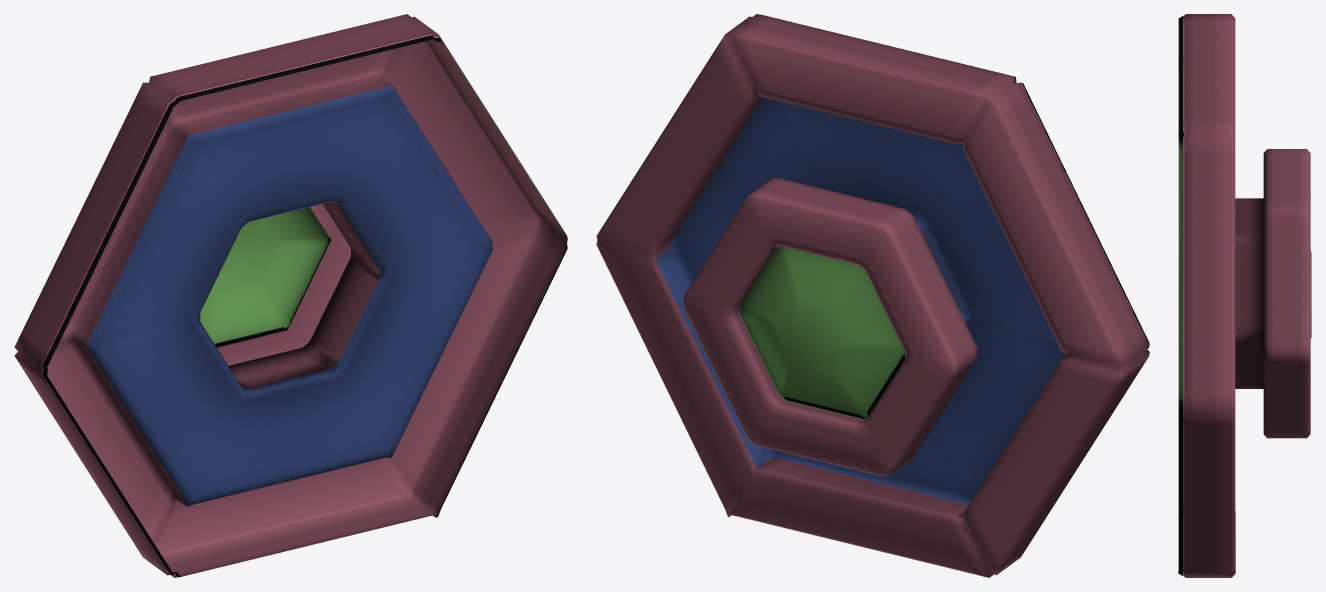
File: Fountain.fbx
3 views of the same model, side by side, from view 1: azimuth 30°, elevation 25°; view 2: azimuth 150°, elevation 25°; view 3: azimuth 270°, elevation 25° (orthographic). The views are drawn at different scales.
Parts seen in each view (by area): view 1: Cube; view 2: Cube; view 3: Cube.
Part boxes in pixels (<box>): Cube: <box>14,14,567,577</box>; Cube: <box>596,14,1149,577</box>; Cube: <box>1178,14,1311,577</box>.
Bounding box in the file's own units: 595 × 523 × 141.
